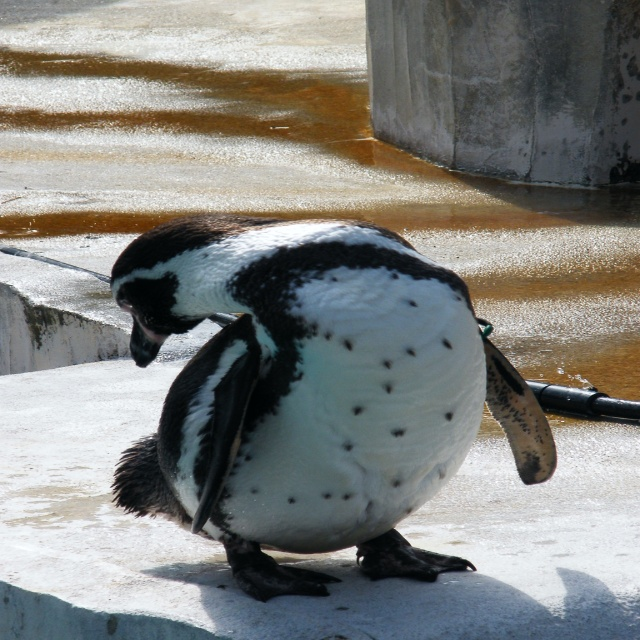Penguin: (110, 215, 559, 608)
